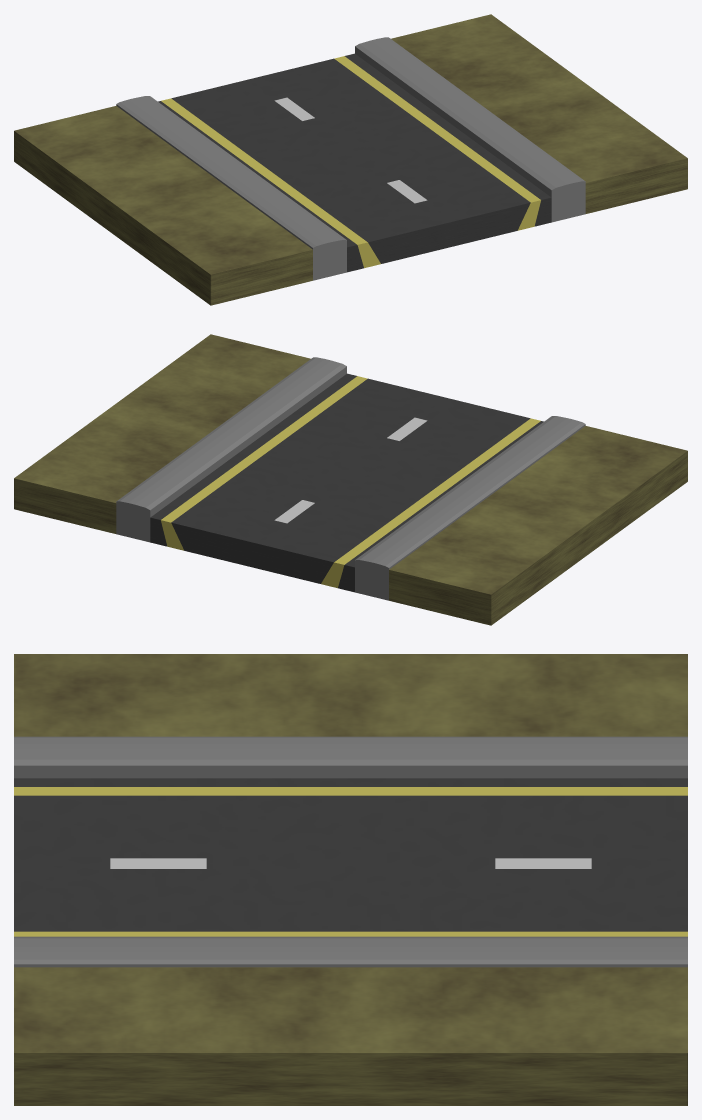
File: Road.fbx
3 renders of one model, top to bottom at view 1: azimuth 30°, elevation 25°; view 2: azimuth 150°, elevation 25°; view 3: azimuth 270°, elevation 25°, orthographic. The views are drawn at different scales.
Parts seen in each view (by area): view 1: Road; view 2: Road; view 3: Road.
Boxes of the visible parts, box(x1,y1,x2,y2) form: Road: box(14, 14, 687, 305); Road: box(14, 334, 687, 625); Road: box(14, 654, 687, 1105).
Bounding box in the file's own units: 1400 × 95.81 × 1000.
Materials: 5 (2 with a texture image).
